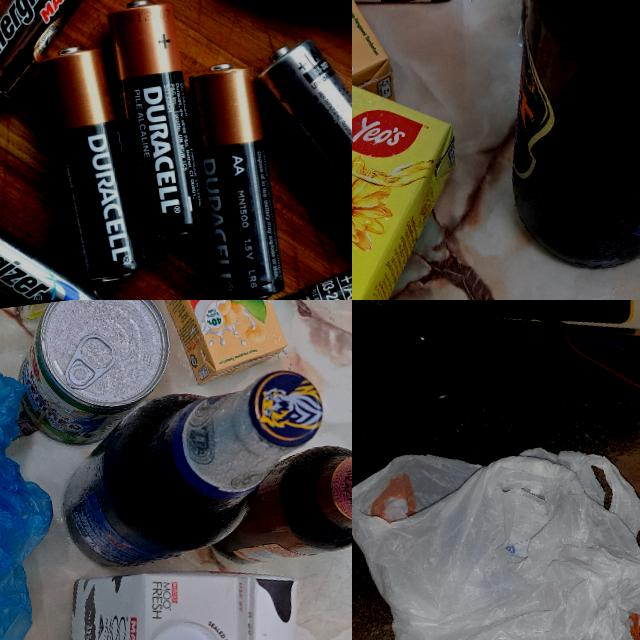aba de lata: (61, 330, 120, 391)
bateria: (40, 40, 152, 290), (100, 0, 207, 247), (180, 58, 285, 300), (252, 23, 352, 271), (0, 0, 166, 107), (0, 169, 135, 300), (143, 260, 352, 300)
caixinha: (352, 66, 489, 300), (57, 551, 317, 640), (352, 0, 409, 220), (156, 300, 289, 391)
garrafa de vidro: (50, 366, 338, 574), (490, 0, 640, 280), (203, 430, 352, 567)
lata: (9, 300, 180, 452)
sacola plástica: (352, 411, 640, 640), (0, 304, 77, 640)
tampa plástica: (139, 617, 230, 640)
